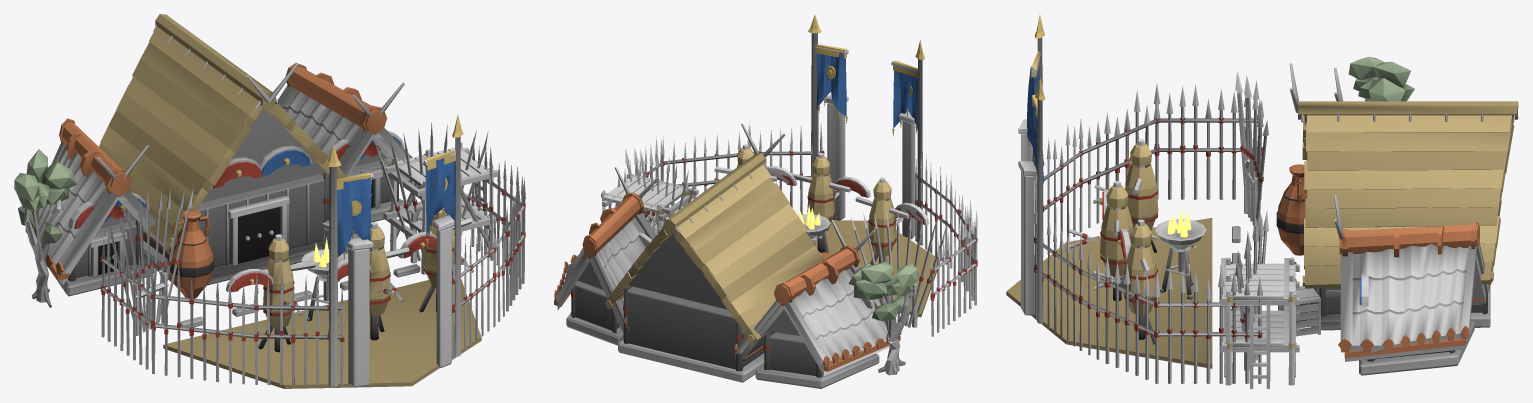
The model's file is javelin-camp-l2.glb.
3 views of the same model, side by side, from view 1: azimuth 30°, elevation 25°; view 2: azimuth 150°, elevation 25°; view 3: azimuth 270°, elevation 25° (orthographic). The views are drawn at different scales.
Visible parts, largest first — view 1: javelin-camp-l2; view 2: javelin-camp-l2; view 3: javelin-camp-l2.
Part boxes in pixels (x1=…): javelin-camp-l2: x1=14, y1=14, x2=525, y2=388; javelin-camp-l2: x1=554, y1=14, x2=977, y2=388; javelin-camp-l2: x1=1006, y1=15, x2=1518, y2=388.
Bounding box in the file's own units: 1.53 × 0.864 × 1.6.
